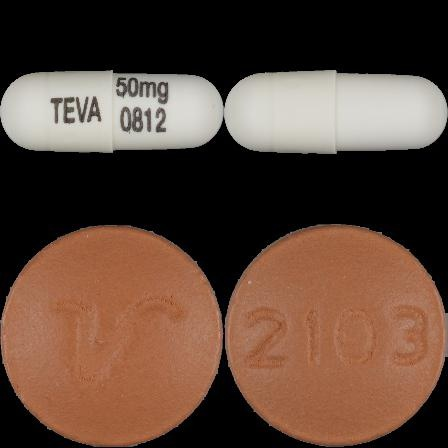61919-238: (0, 0, 224, 224)
